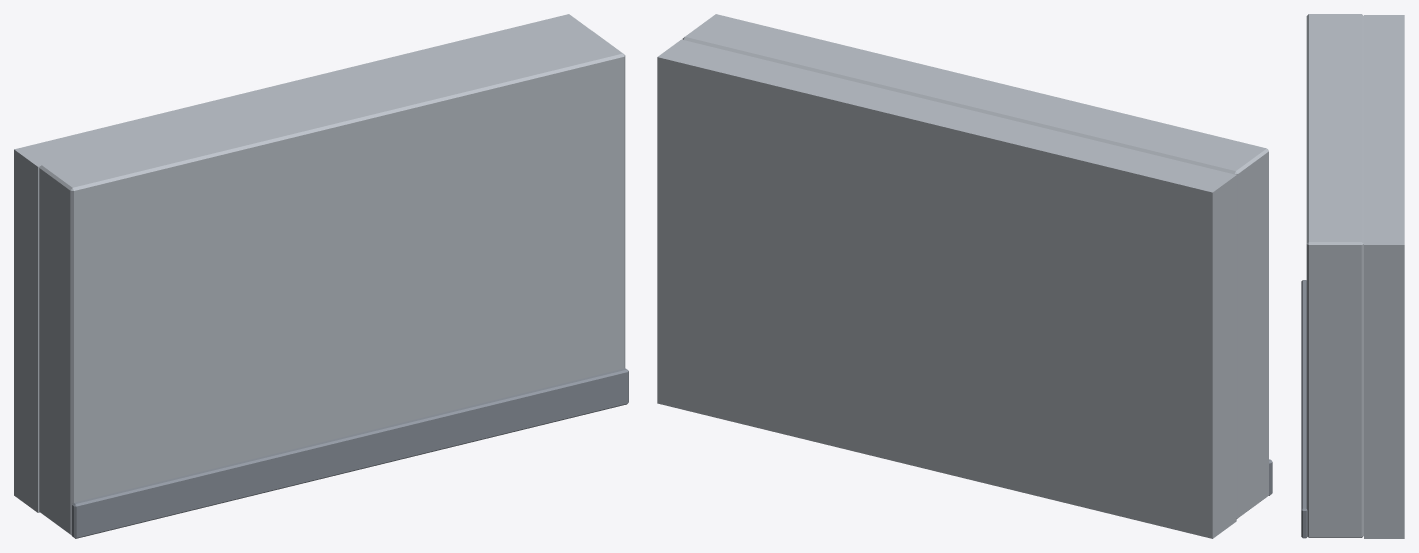
The model's file is soco_h60_1m.glb.
3 renders of one model, left to right at view 1: azimuth 30°, elevation 25°; view 2: azimuth 150°, elevation 25°; view 3: azimuth 270°, elevation 25°, orthographic. The views are drawn at different scales.
Visible parts, largest first — view 1: soco_h60_1m; view 2: soco_h60_1m; view 3: soco_h60_1m.
Boxes of the visible parts, x1,y1,x2,y2 form: soco_h60_1m: (14,14,628,538); soco_h60_1m: (657,14,1272,538); soco_h60_1m: (1301,14,1404,538).
Size of the model in its own units: 1 by 0.6 by 0.19.
Materials: 1 (1 with a texture image).
